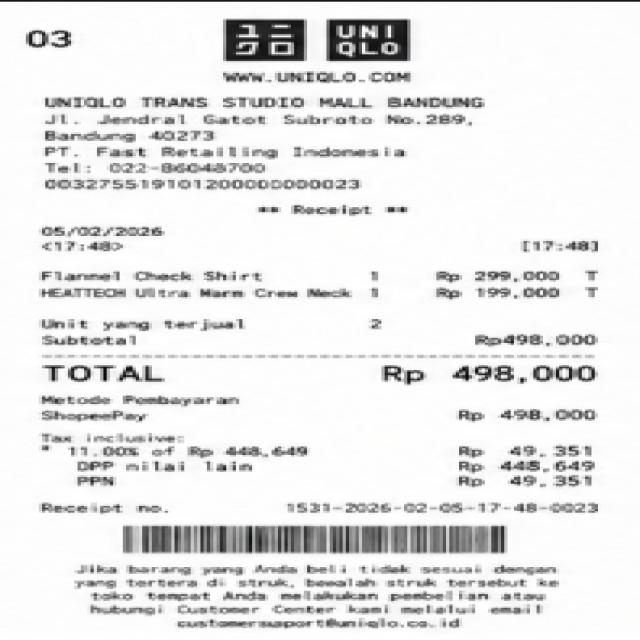date: (30, 222, 177, 254)
store: (215, 16, 428, 67), (39, 92, 502, 112)
total: (34, 362, 602, 387)
